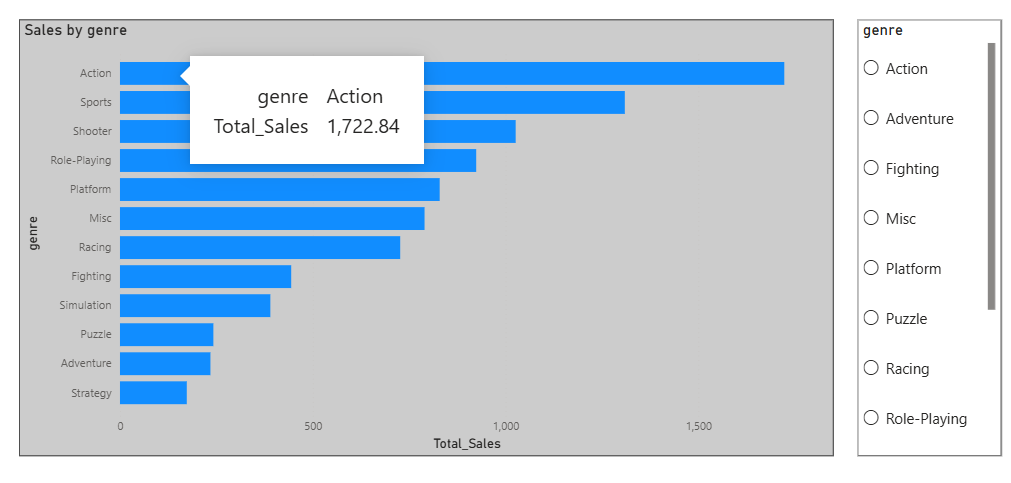

This screenshot's page, from the dashboard's own definition file:
{"tool":"powerbi","page":{"name":"Genre sales","canvas":[1280,720],"ordinal":1},"visuals":[{"type":"barChart","title":"Sales by genre","fields":{"Category":["video_games_sales.genre"],"Y":["video_games_sales.Total_Sales"]},"box":[200.8,124.7,879.2,471.2],"z":0},{"type":"listSlicer","fields":{"Values":["video_games_sales.genre"]},"box":[1105.9,124.7,155.4,471.2],"z":1000}]}

Visuals, with their boxes on the page's 1280x720 design canvas (x1, y1, x2, y2). These are canvas units, not pixel positions in the 1011x483 screenshot, which may show the page scaled, cropped or inside an application window:
"Sales by genre" barChart: (201,125,1080,596)
listSlicer - video_games_sales.genre: (1106,125,1261,596)
